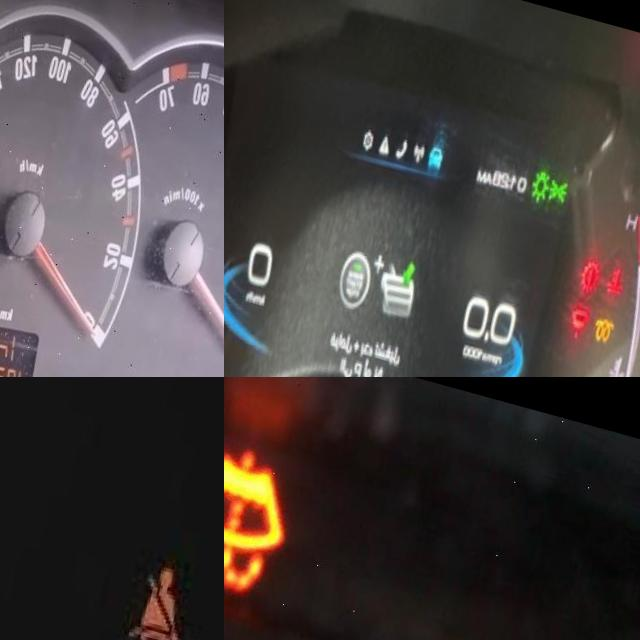High Engine Coolant Temperature: (613, 233, 639, 271)
Seat Belt: (143, 545, 203, 640)
Washer Fluid: (224, 431, 301, 588)
